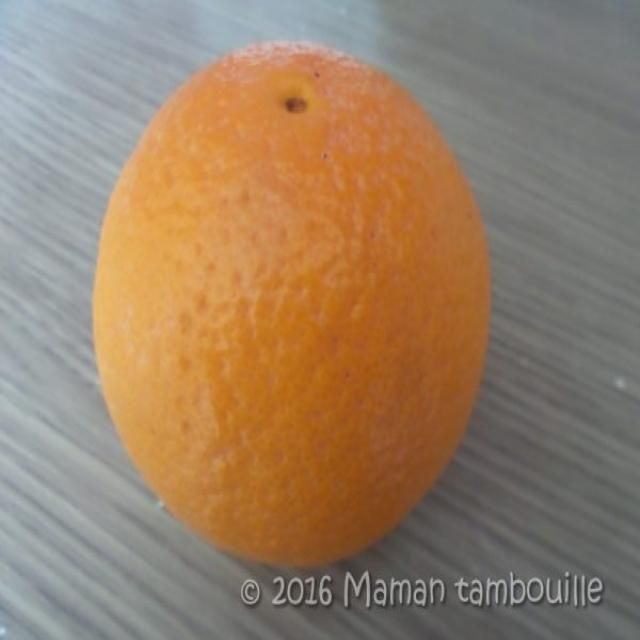Orange: (94, 41, 495, 574)
